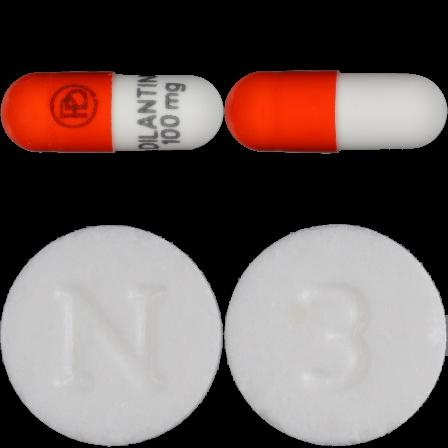0071-0369: (0, 0, 224, 224)
